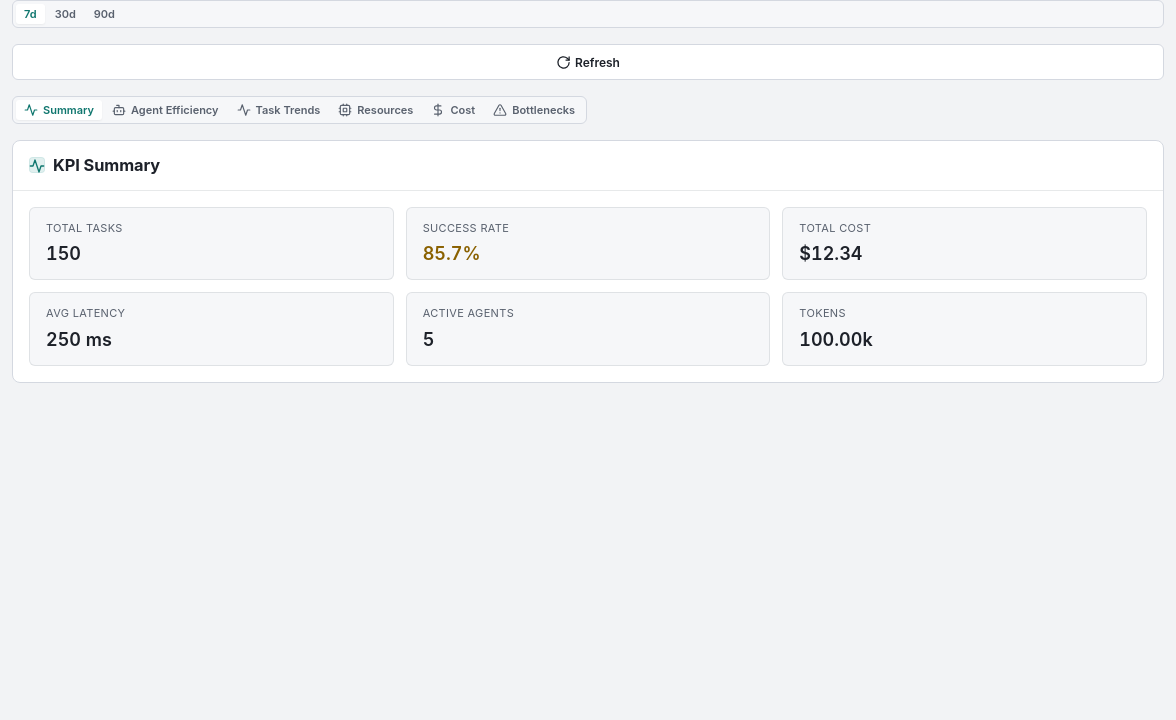
Analysis.vue › renders the live resource cards the API nests under live/db_pool/cache
Click the radio button with class "segmented__item" showing "Resources" at (376, 110), box x1=330 y1=100 x2=421 y2=120
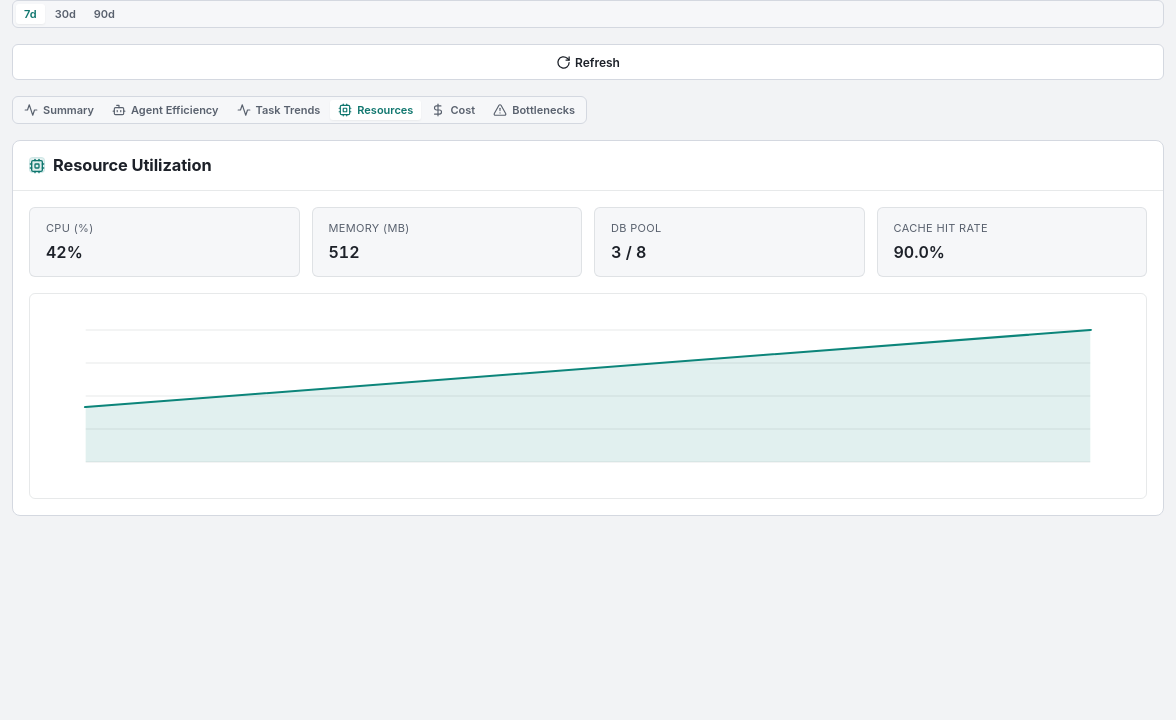
Result: the text with class "an-resource-card__value" reads "42%" at x1=46 y1=242 x2=83 y2=262
Result: the text with class "an-resource-card__value" reads "512" at x1=328 y1=242 x2=360 y2=262
Result: the text with class "an-resource-card__value" reads "3 / 8" at x1=611 y1=242 x2=646 y2=262
